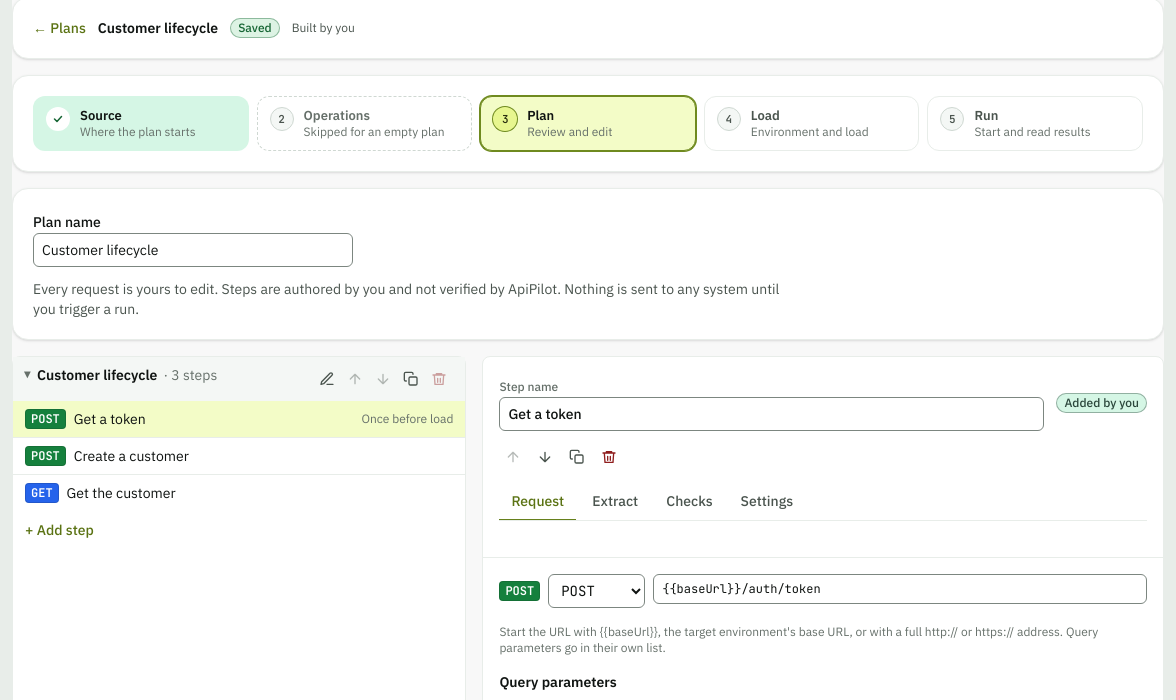
the plan's chains on the Plan step › lists a use before extraction, never refuses the move, and jumps to the step
The width and height of the screenshot is (1176, 700).
Expected: the field labelled "Plan name" is shown, 33,233 -> 353,267
Click the text "Get the customer".
click(121, 493)  # box 67,484 -> 176,502
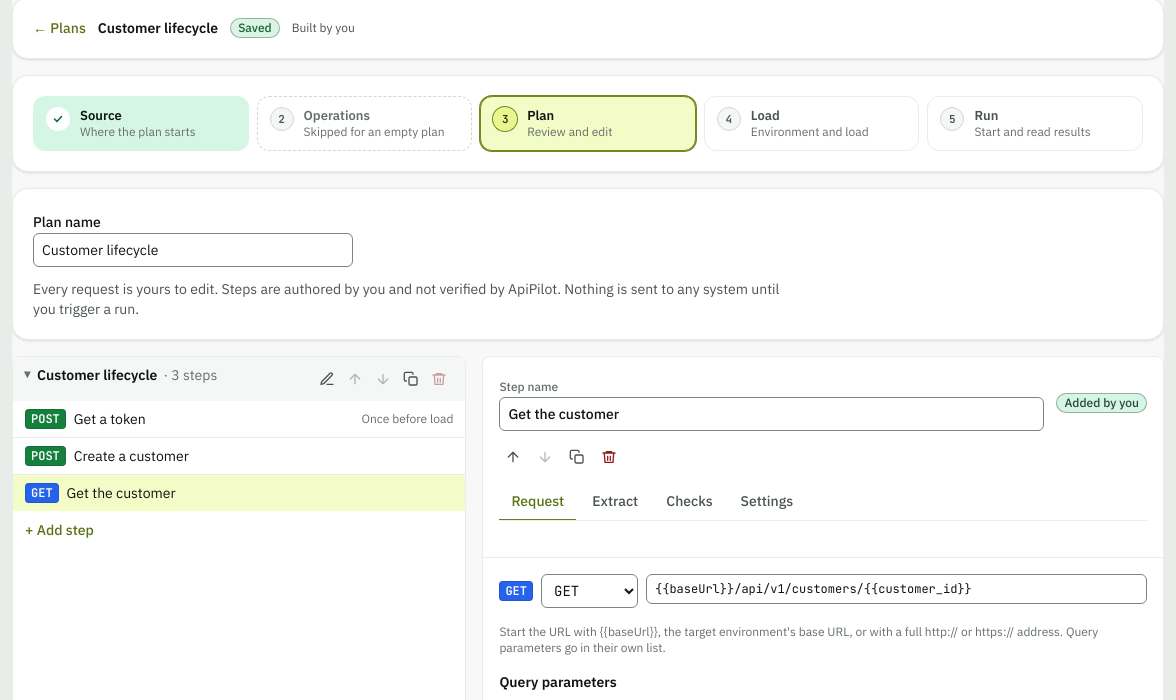
Click the button named "Move up".
click(513, 457)  # box 499,443 -> 527,471
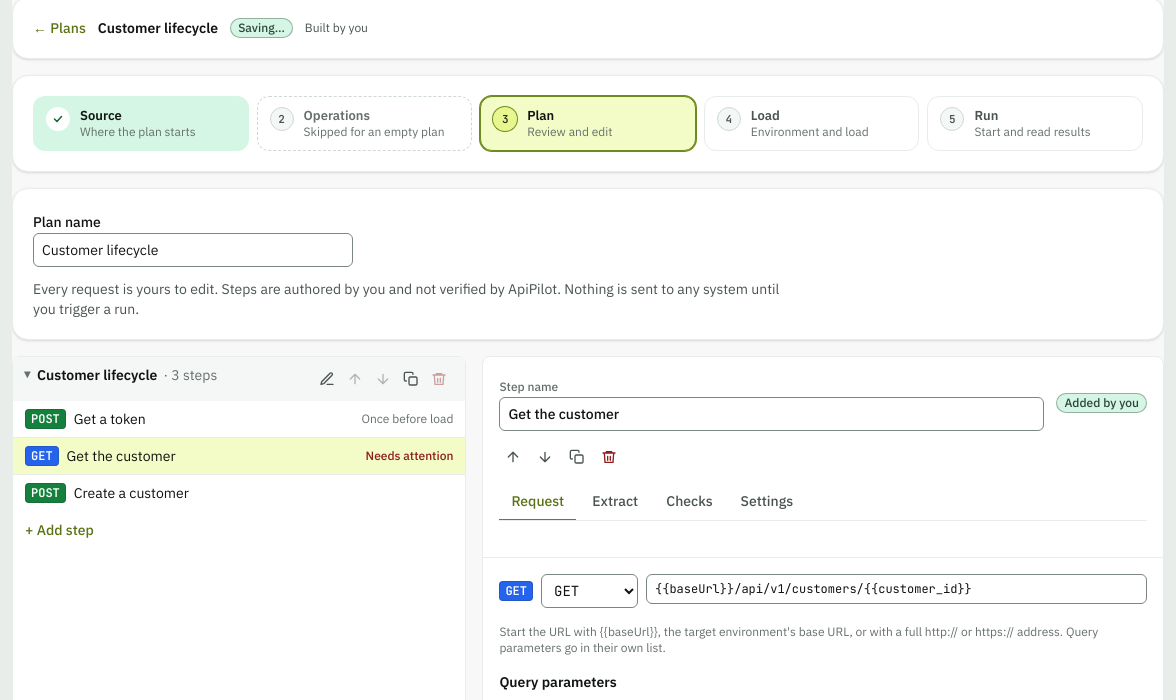
Click the text "Create a customer".
click(131, 493)  # box 74,484 -> 189,502
(page scrolled)
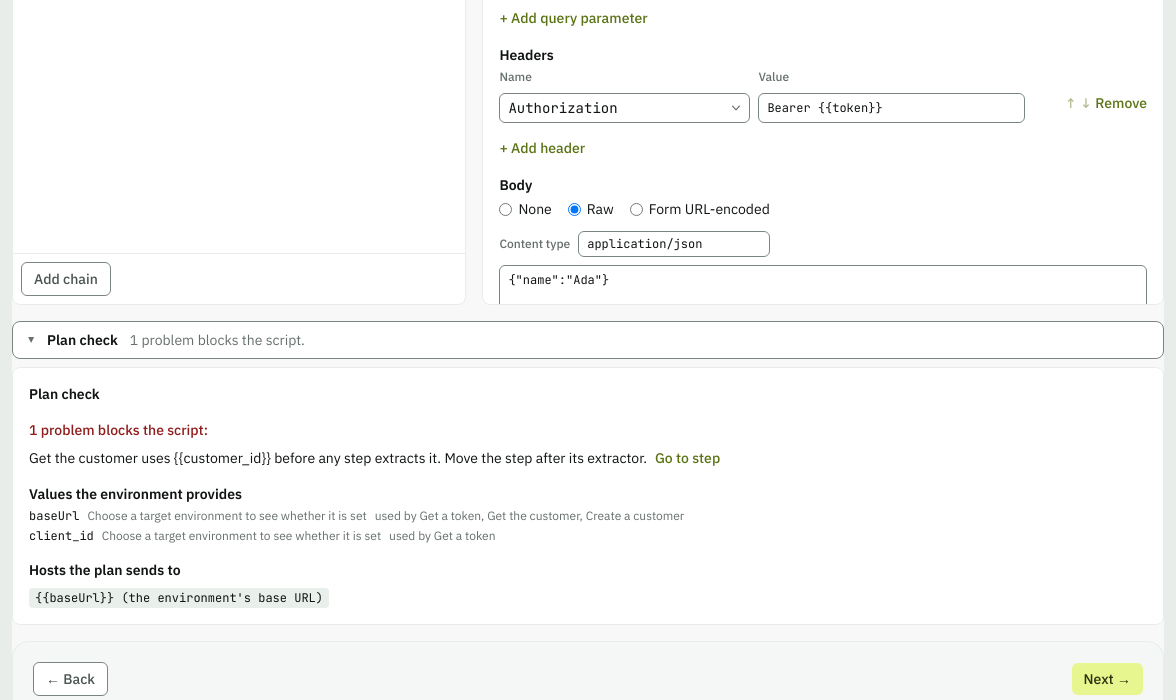
Click the button "Go to step".
click(688, 458)  # box 655,448 -> 720,468
(page scrolled)
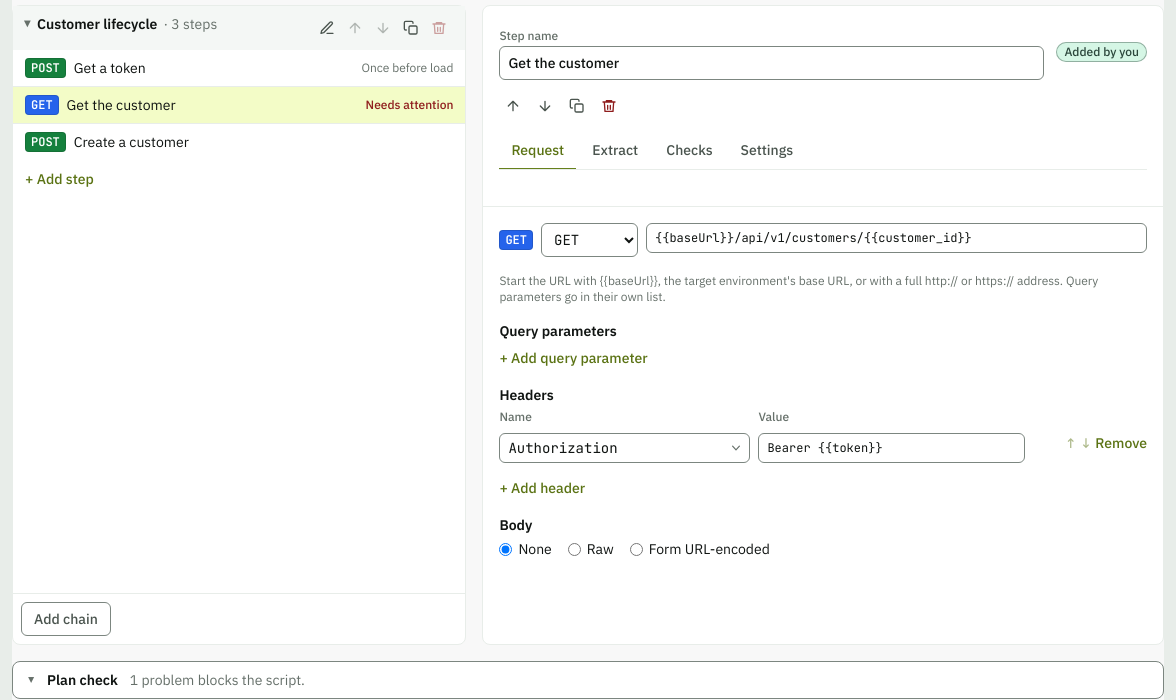
Now the text "Needs attention" is shown, box 366,97 -> 453,113
Now the field labelled "Step name" holds "Get the customer", box 499,46 -> 1044,80
